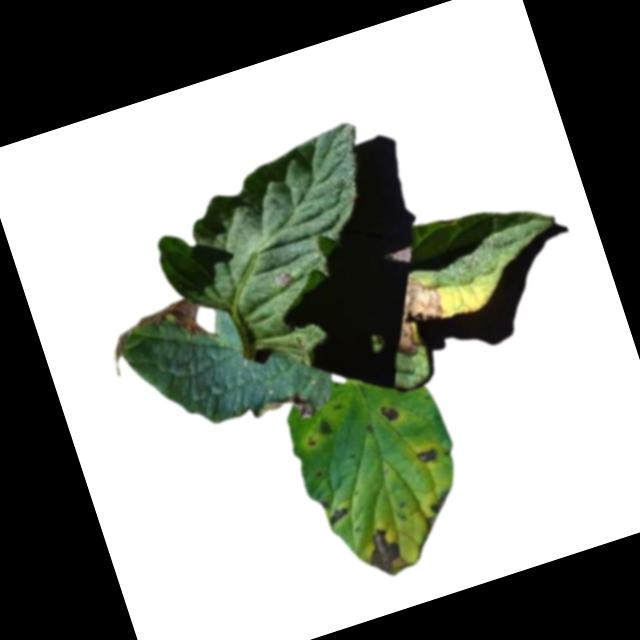Early_blight: (95, 293, 212, 378), (376, 269, 453, 357), (360, 522, 414, 584), (260, 382, 320, 431), (427, 488, 460, 515), (413, 444, 442, 468), (315, 415, 339, 441), (378, 400, 401, 426), (327, 506, 353, 527), (272, 268, 294, 289)
